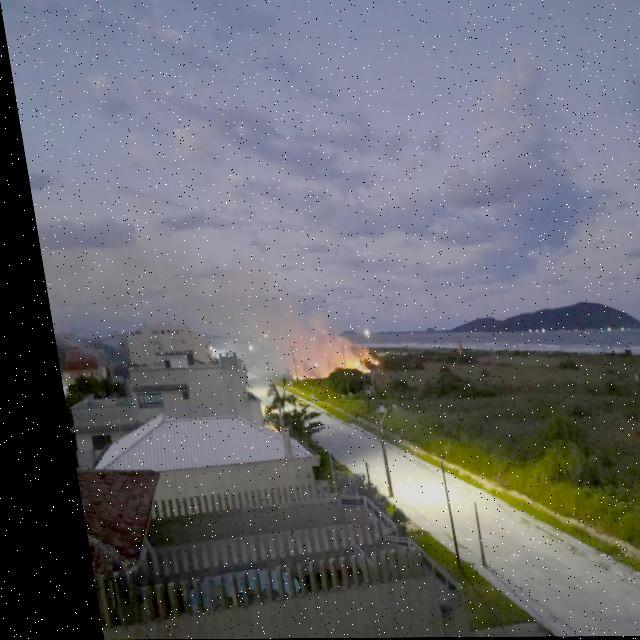Fire: (331, 356, 358, 374), (279, 374, 292, 384), (358, 357, 370, 366)
